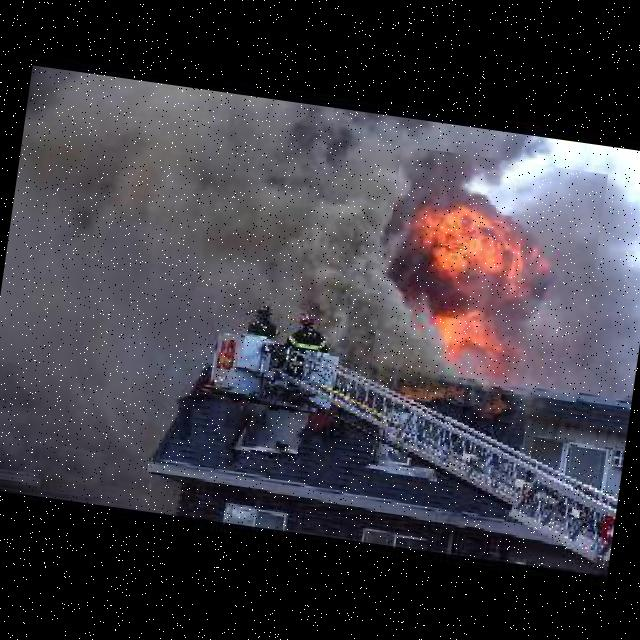fire: (370, 146, 608, 404)
